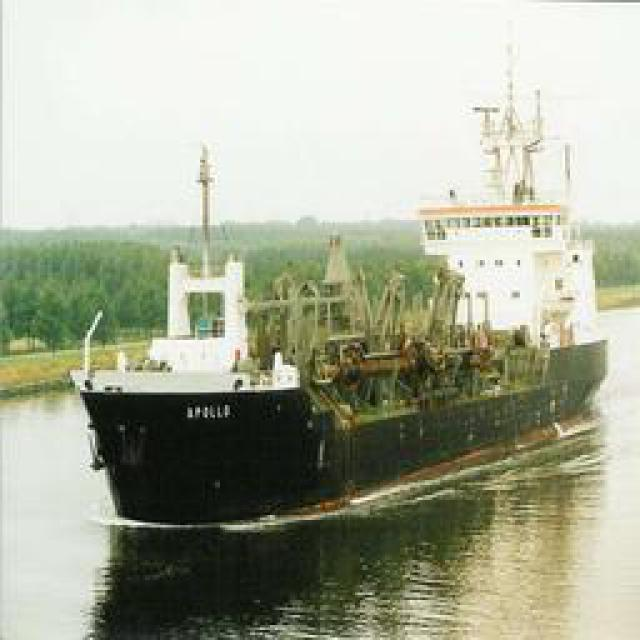Ship: (70, 19, 616, 535)
